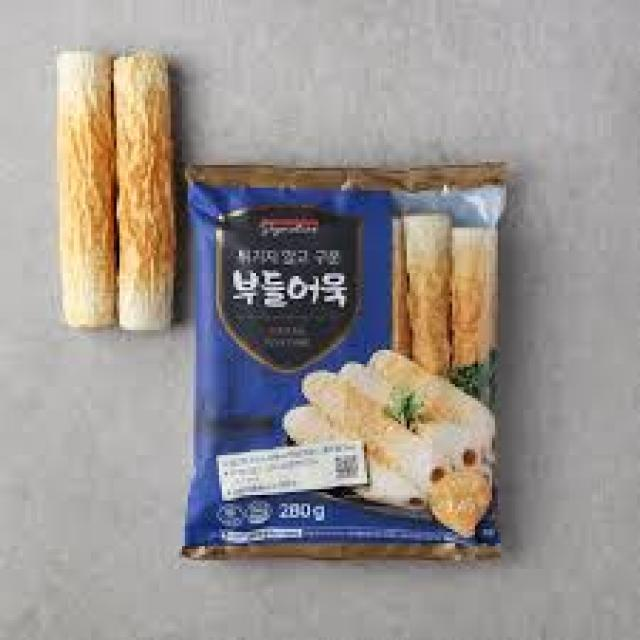fish_cake: (168, 148, 515, 583)
